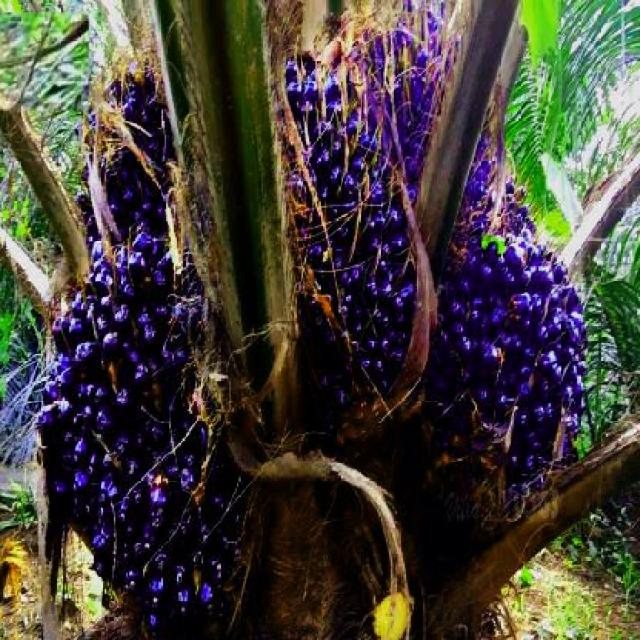palm-oil: (383, 27, 604, 478), (32, 242, 247, 620), (270, 56, 425, 408), (89, 61, 184, 238)
